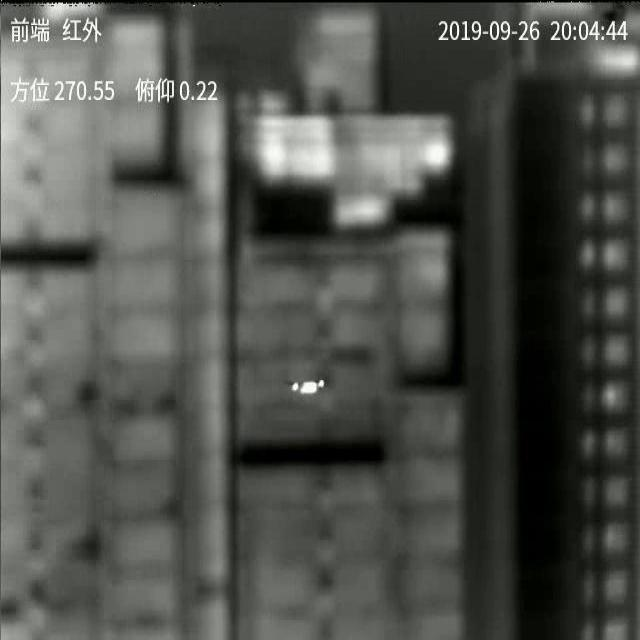drone: (286, 380, 324, 395)
